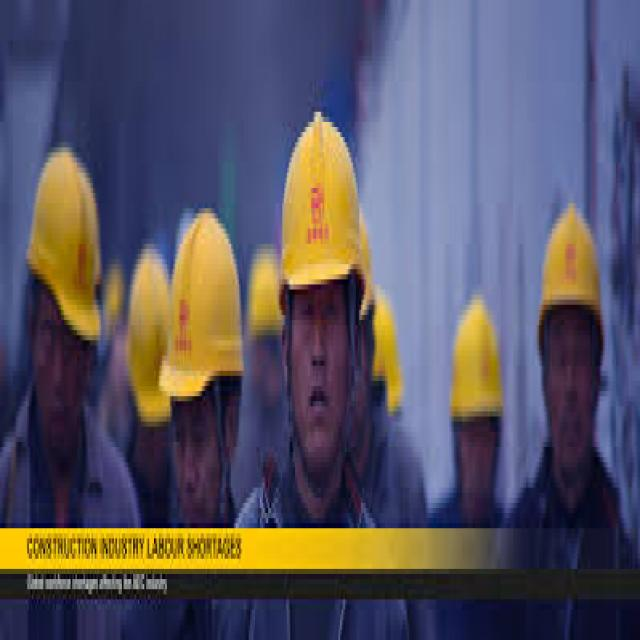Reflective-Jacket: (0, 437, 140, 528)
Safety-Helmet: (276, 102, 369, 315), (164, 203, 245, 412), (26, 137, 104, 351), (534, 198, 608, 351), (446, 289, 507, 437)
